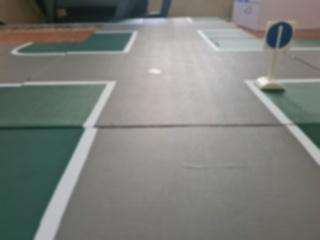straight: (265, 20, 295, 51)
